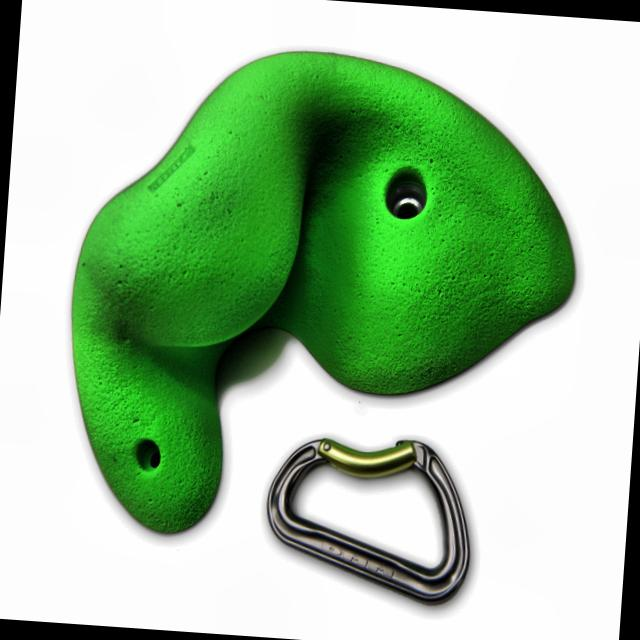Hold: (41, 21, 602, 574)
